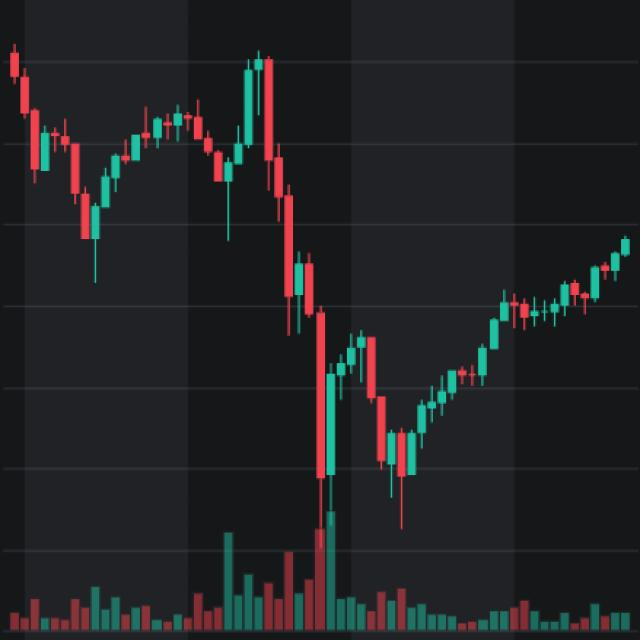Rising-Wedge: (354, 225, 640, 556)
